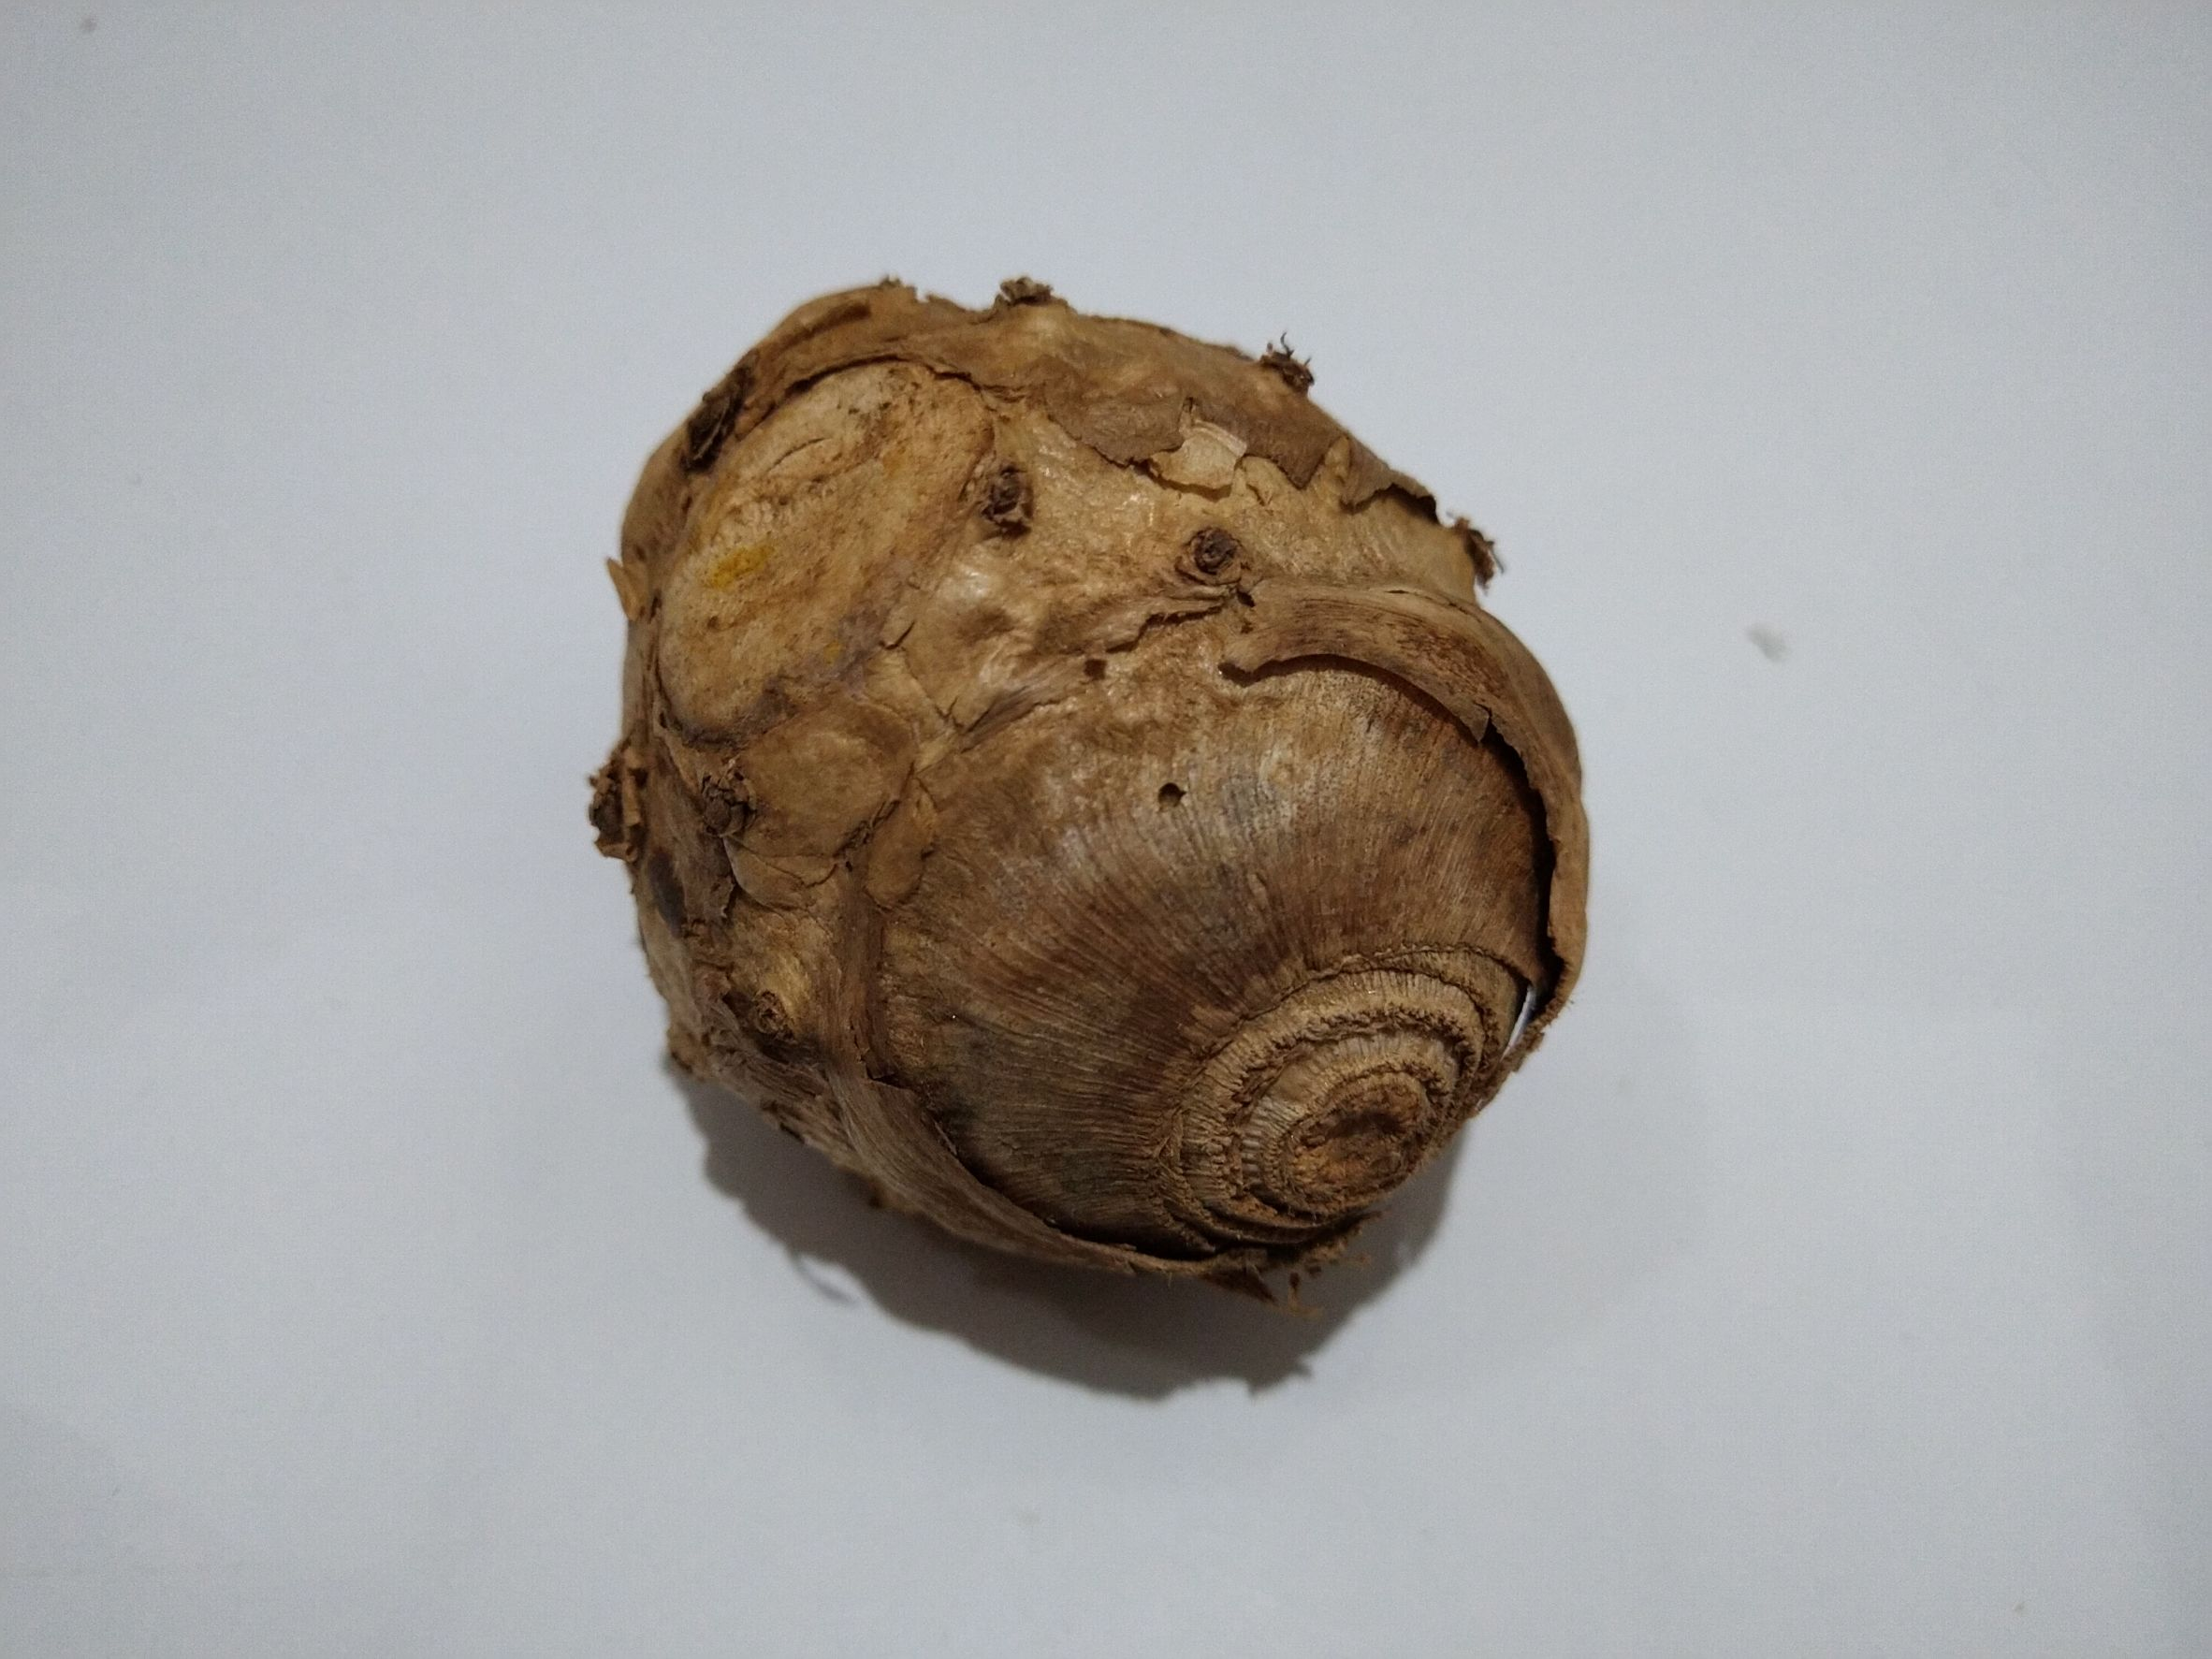Temulawak: (617, 281, 1595, 1309)
